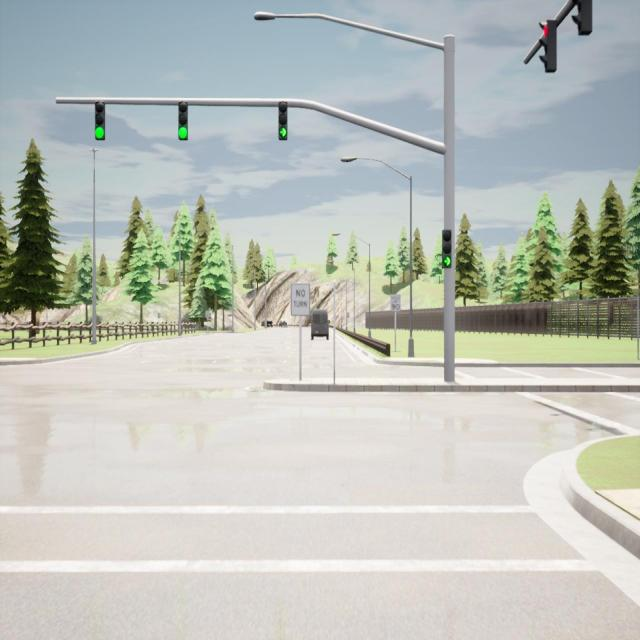Traffic_Signs: (292, 284, 309, 315), (391, 294, 400, 312)
Vehicle: (310, 309, 330, 340), (261, 320, 273, 328), (278, 320, 288, 328)
traffic_light: (538, 20, 558, 73), (572, 0, 592, 34), (95, 102, 106, 140), (178, 104, 188, 142), (442, 229, 451, 269), (278, 101, 287, 141)
